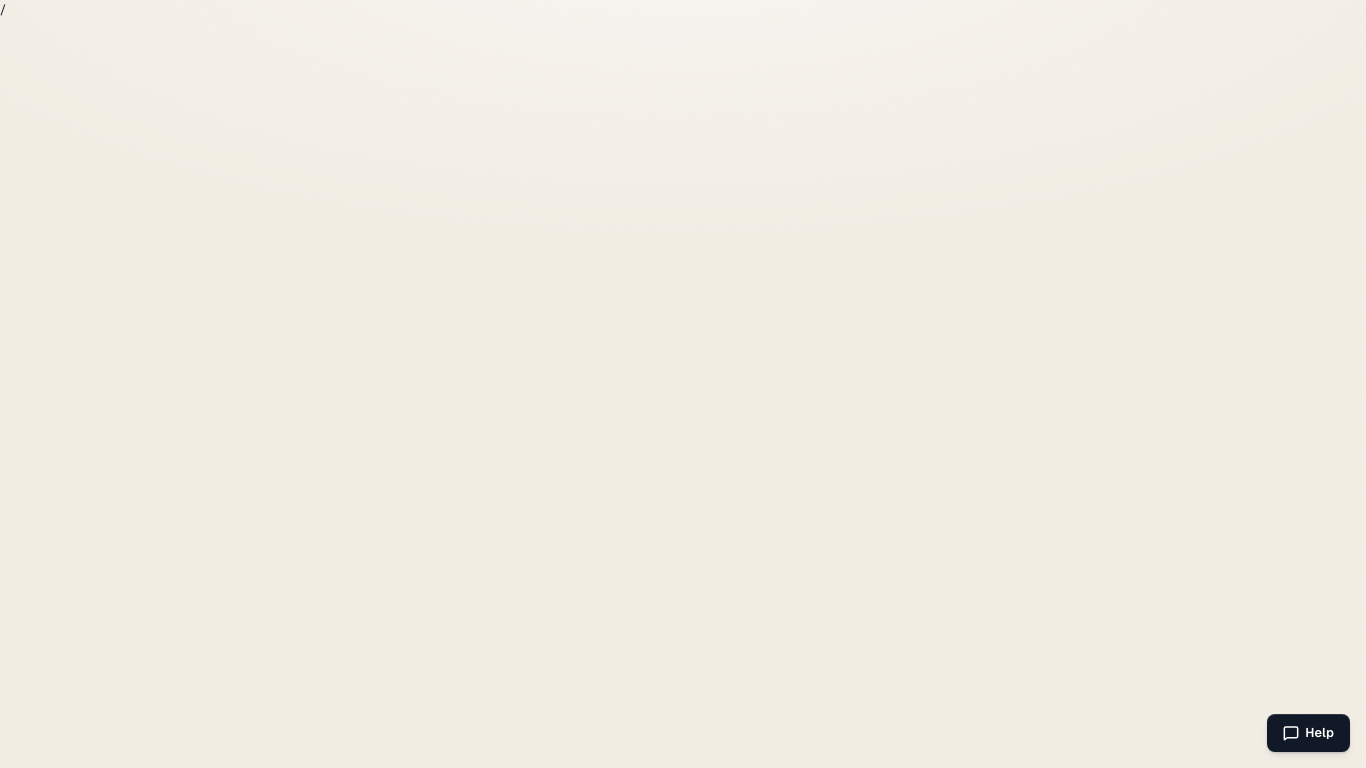
Test: HelpWidget › offers 'Talk to a human' only after the assistant has had a go
Click the button "Help".
click(1308, 733)  # box 1267,714 -> 1350,752
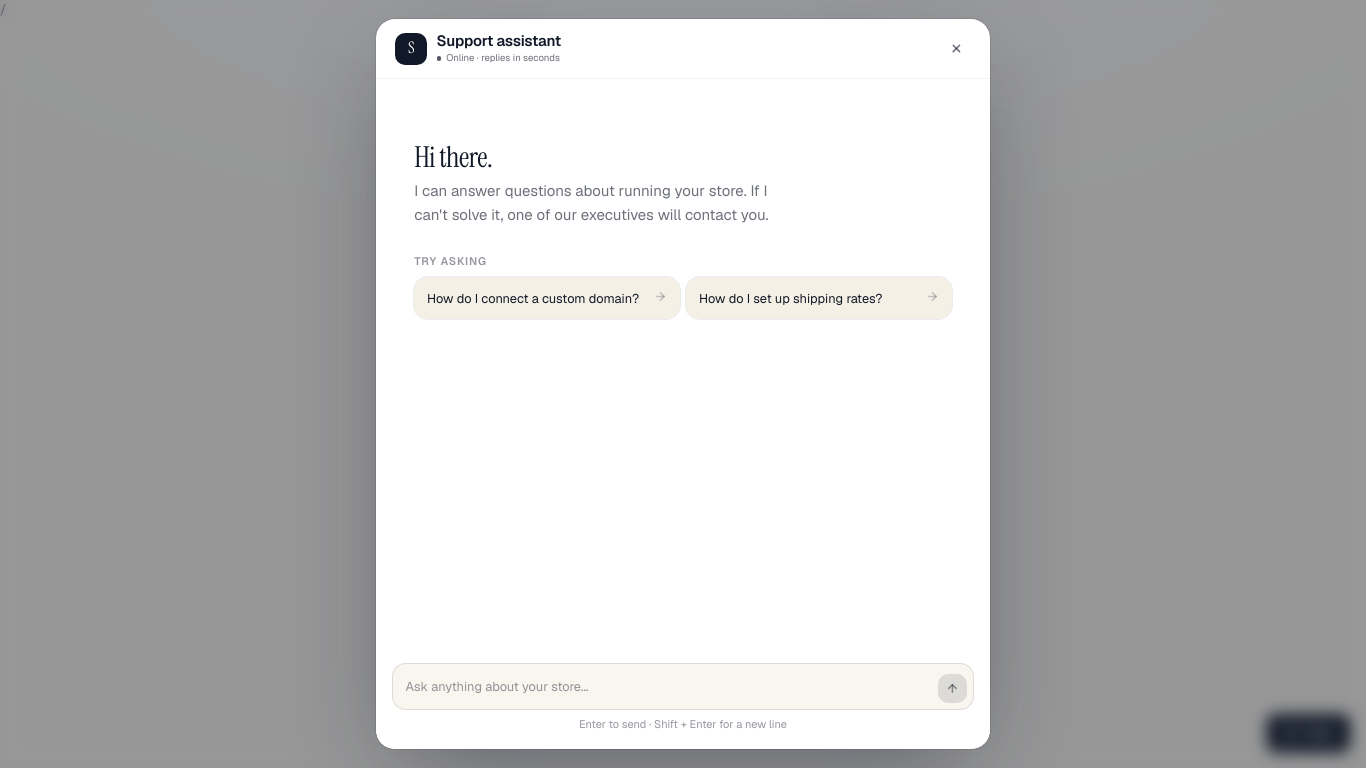
Expected: the button "Talk to a human" is not shown
Type "How do I add a domain?" into the text box named "Your question".
click(669, 686); type("How do I add a domain?")  # box 406,670 -> 932,702
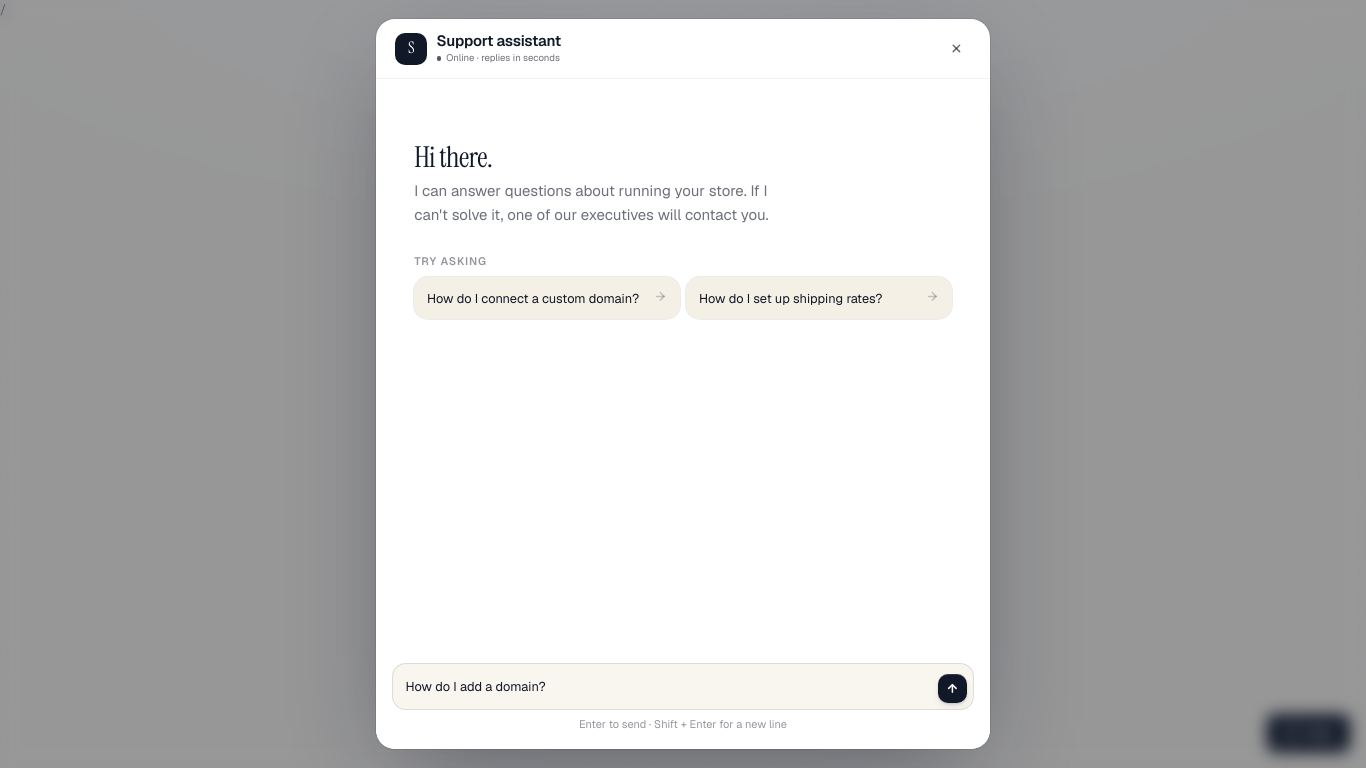
Click the button named "Send".
click(952, 688)  # box 938,674 -> 967,702
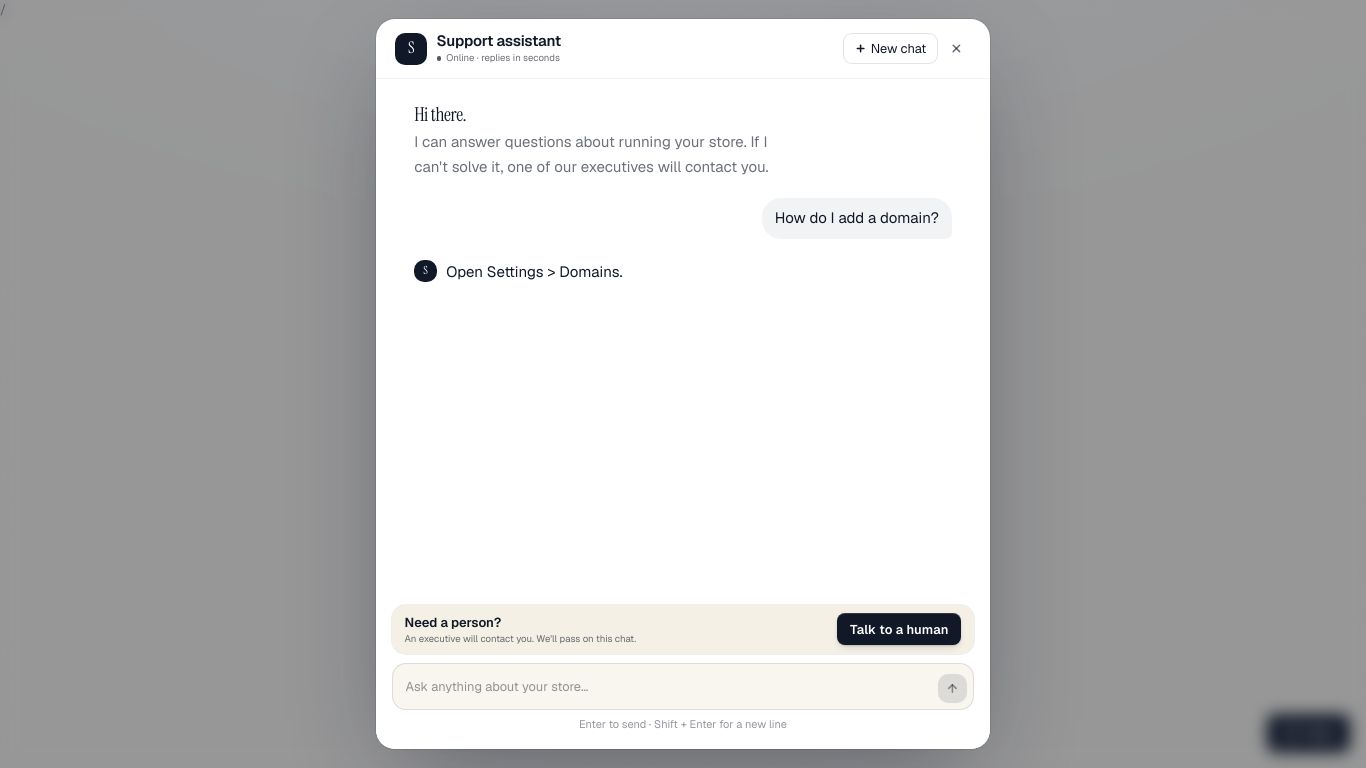
Expected: the text "Open Settings > Domains." is shown, 446,260 -> 622,284
Expected: the button "Talk to a human" is shown, 837,614 -> 961,646
